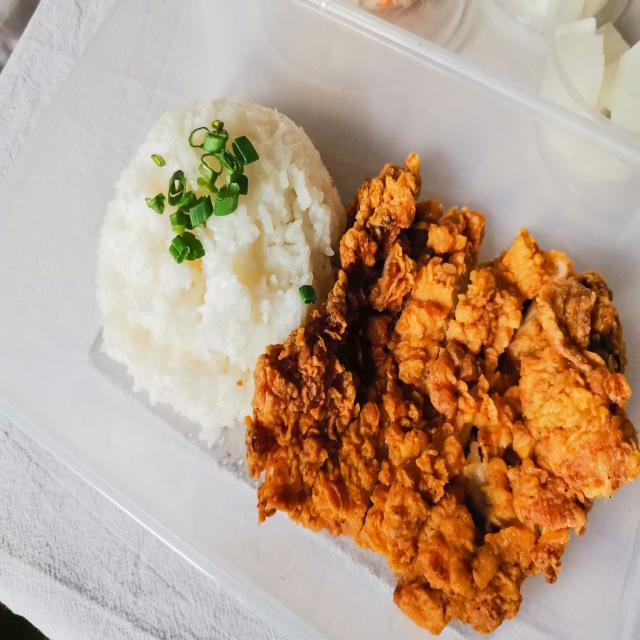Frango: (280, 149, 478, 527), (462, 222, 614, 572), (404, 430, 554, 618)
